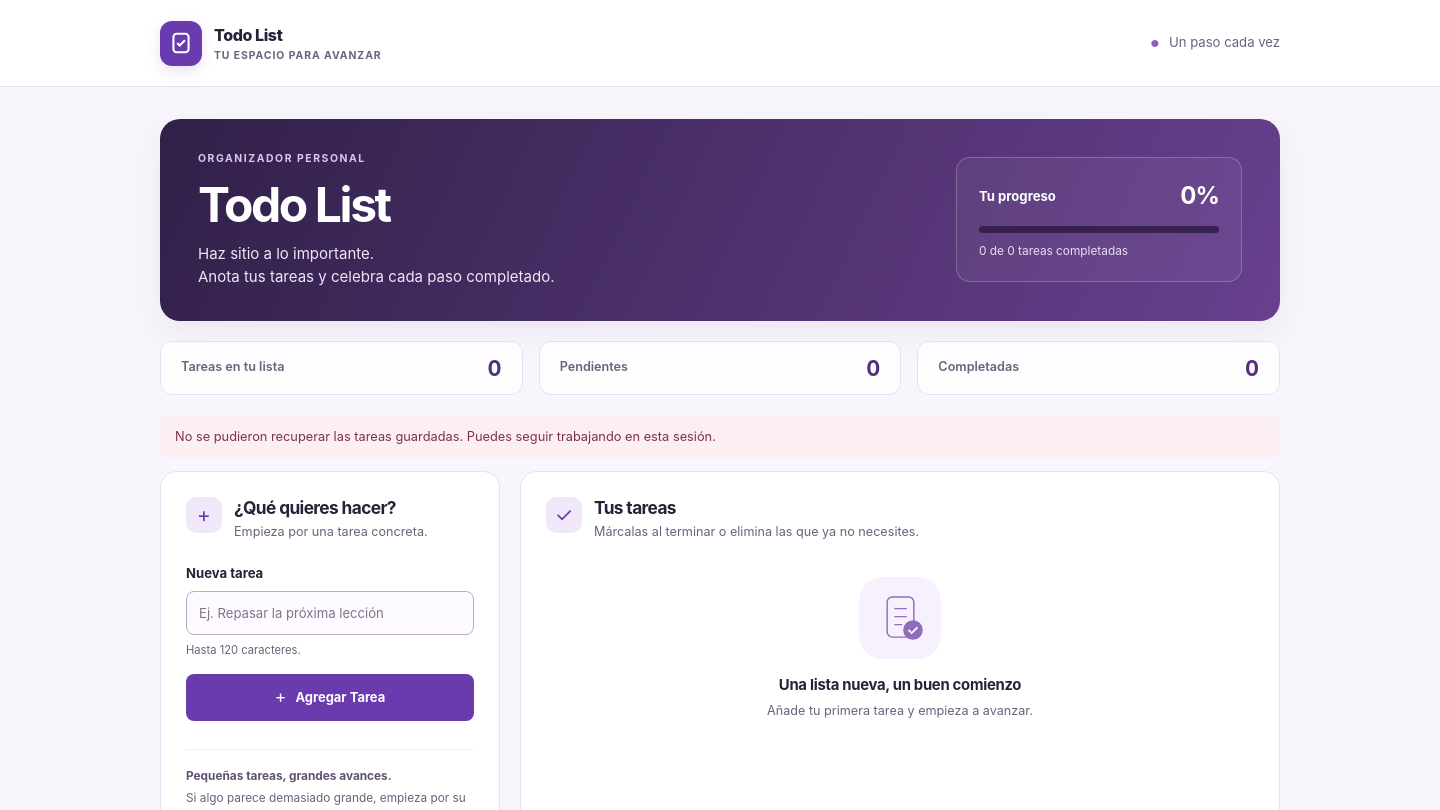
TodoApp · integración entre formulario, estado y lista › muestra un aviso y sigue siendo utilizable si el almacenamiento falla
Expected: the message shows "No se pudieron recuperar las tareas guardadas.", x1=175 y1=429 x2=463 y2=444
In the field labelled "Nueva tarea": point(330, 613) x1=186 y1=591 x2=474 y2=635, type "Seguir trabajando"
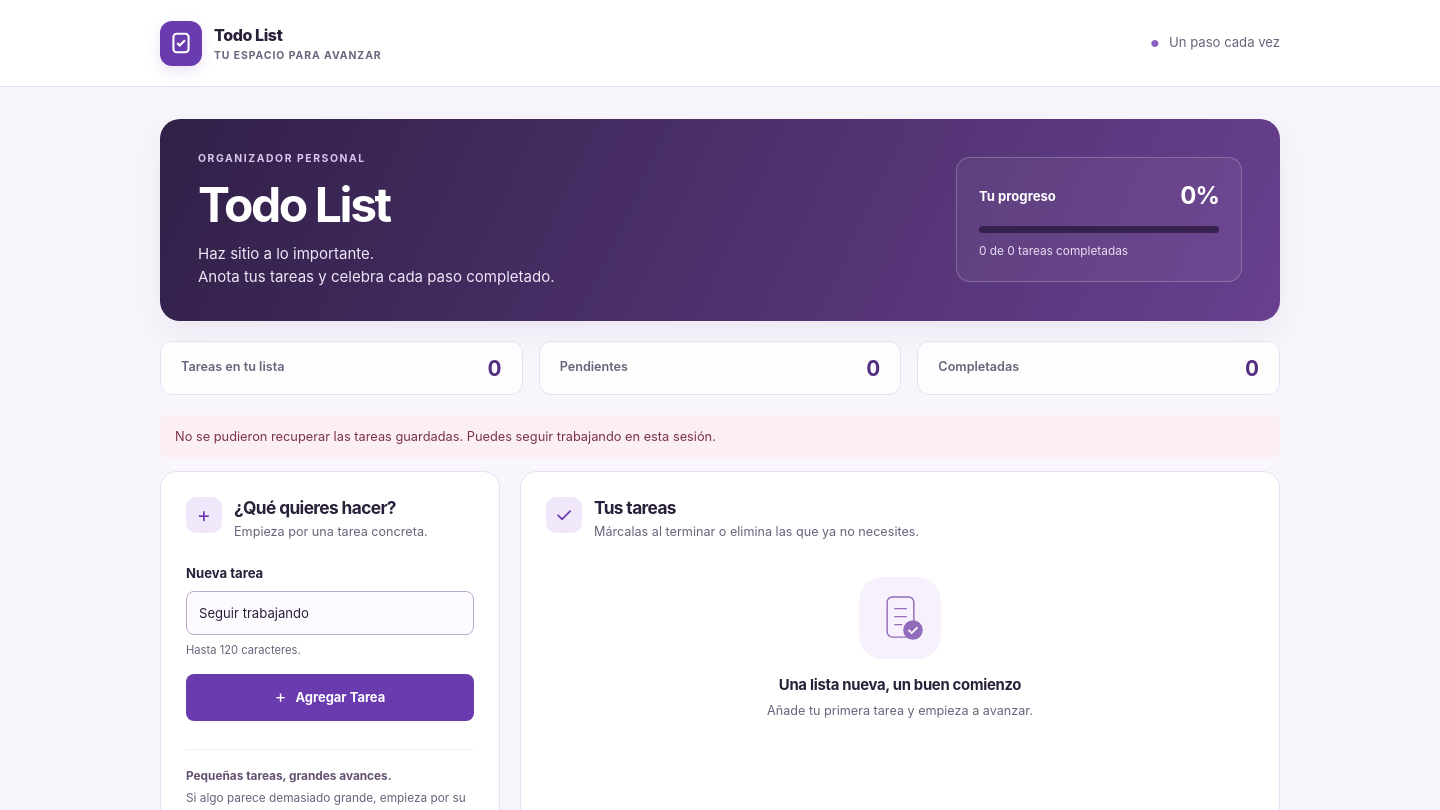
Click the button "+ Agregar Tarea": point(330, 697) x1=186 y1=674 x2=474 y2=721
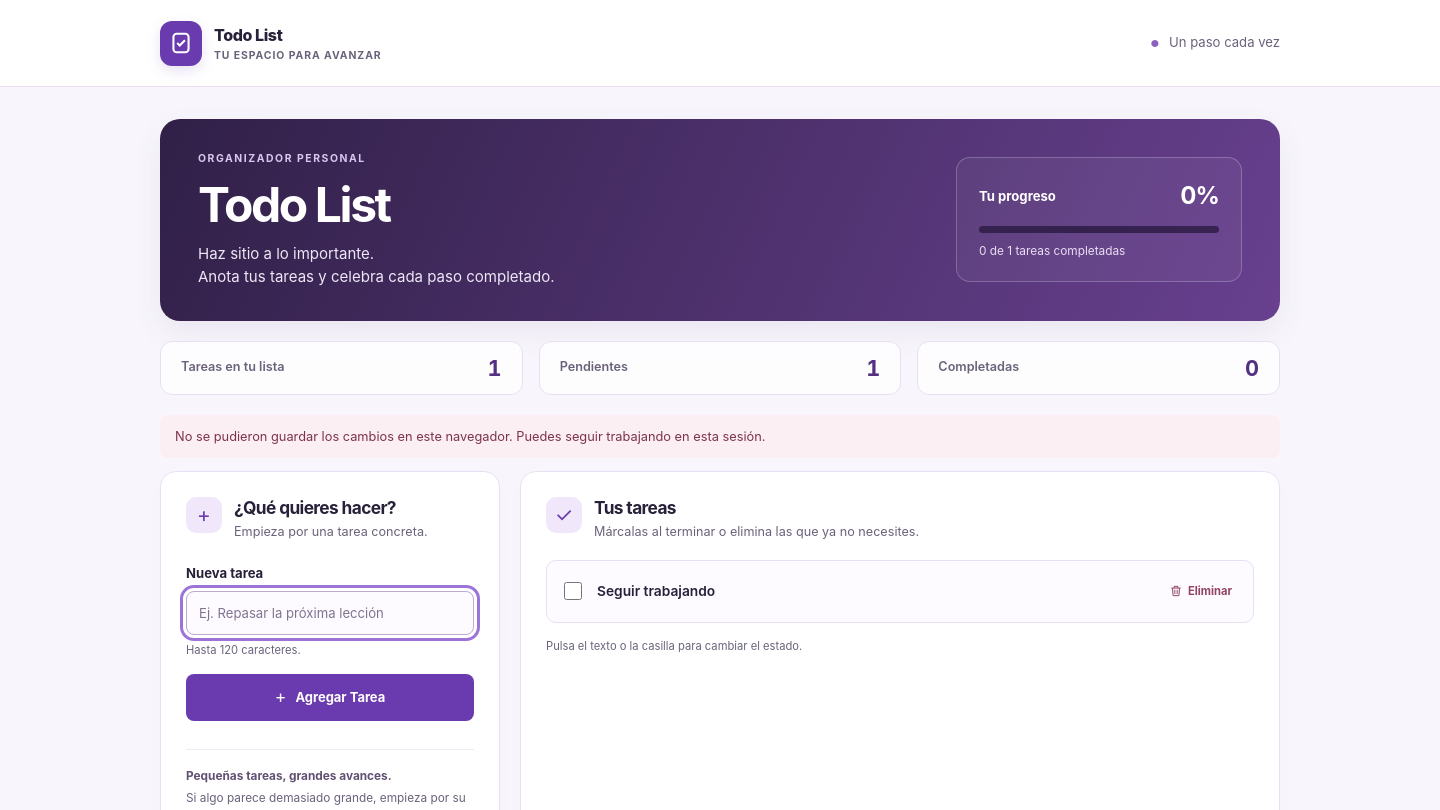
Now the text "Seguir trabajando" is shown, box x1=597 y1=581 x2=715 y2=602
Now the message shows "No se pudieron guardar los cambios en este navegador.", box x1=175 y1=429 x2=513 y2=444
